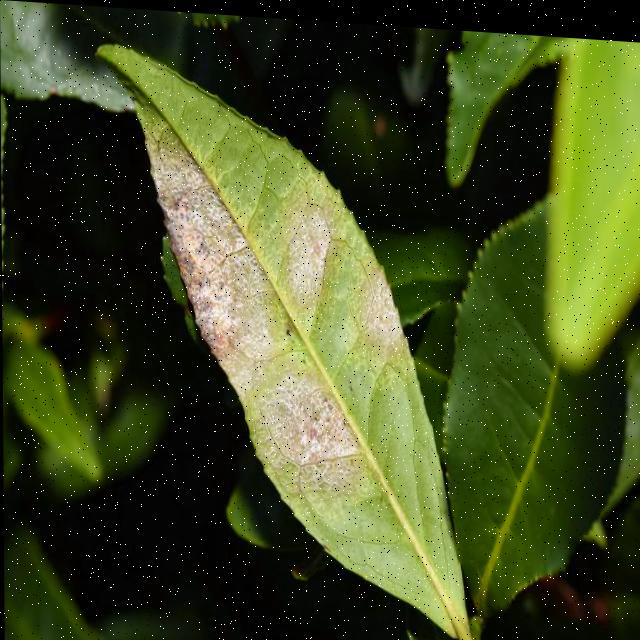Tea exobasidium blight: (137, 105, 388, 474)
